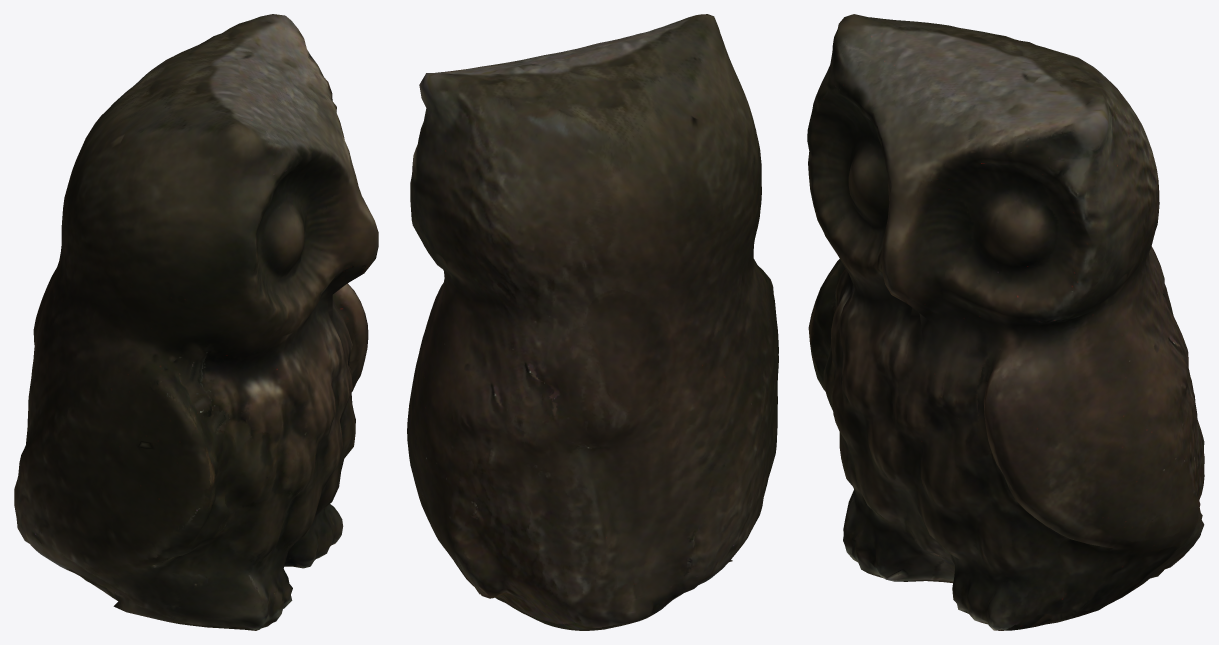
The model's file is owl.obj.
3 views of the same model, side by side, from view 1: azimuth 30°, elevation 25°; view 2: azimuth 150°, elevation 25°; view 3: azimuth 270°, elevation 25° (orthographic). The views are drawn at different scales.
Parts seen in each view (by area): view 1: default; view 2: default; view 3: default.
Boxes of the visible parts, bbox=[...] form: default: bbox=[14, 14, 378, 630]; default: bbox=[407, 14, 778, 630]; default: bbox=[807, 14, 1204, 630].
Bounding box in the file's own units: 34.27 × 53.06 × 34.63.
Materials: 1 (1 with a texture image).
